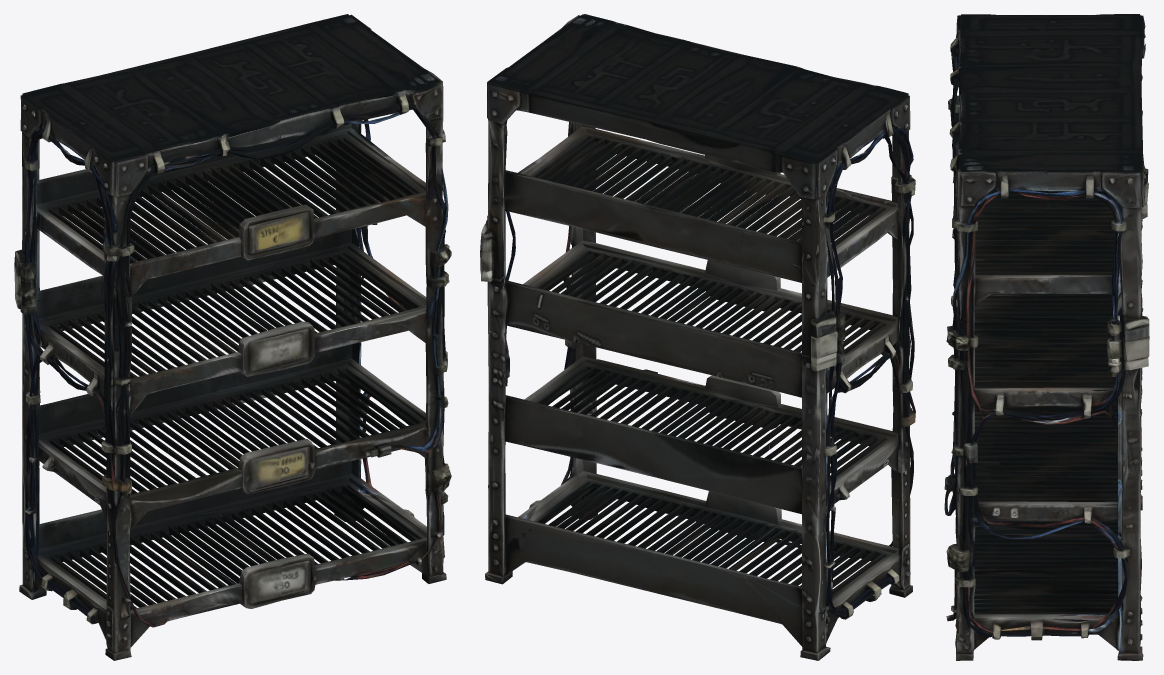
File: prop_implant_shelf.glb
The picture shows the model from 3 angles, left to right: view 1: azimuth 30°, elevation 25°; view 2: azimuth 150°, elevation 25°; view 3: azimuth 270°, elevation 25°; orthographic projection. The views are drawn at different scales.
Visible parts, largest first — view 1: world; view 2: world; view 3: world.
Part boxes in pixels (x1,y1,x2,y2): world: (14, 14, 451, 660); world: (480, 14, 915, 660); world: (944, 14, 1149, 660).
Size of the model in its own units: 1.5 by 2 by 0.7588.
1 material, 1 textured.
